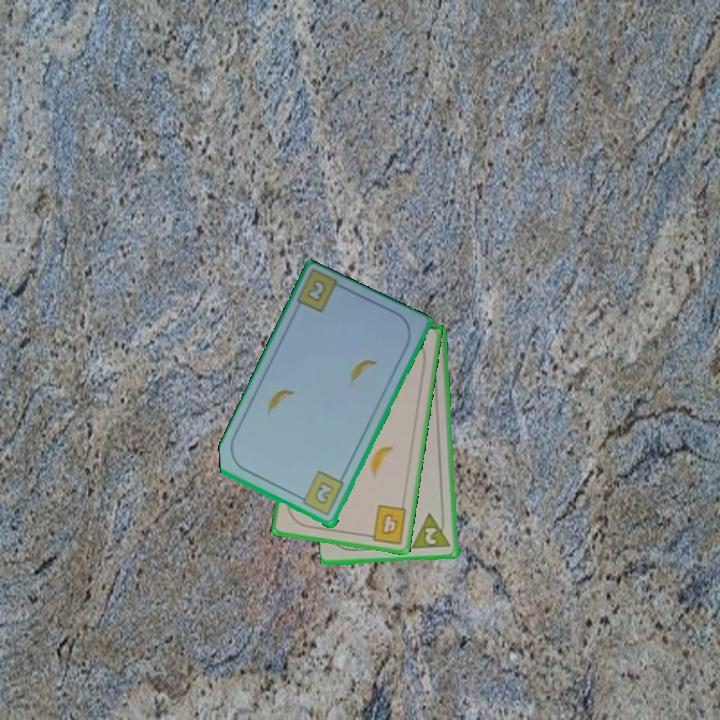2b: (295, 468, 347, 519), (305, 278, 327, 303)
2p: (410, 510, 454, 552)
4b: (362, 501, 410, 547)
